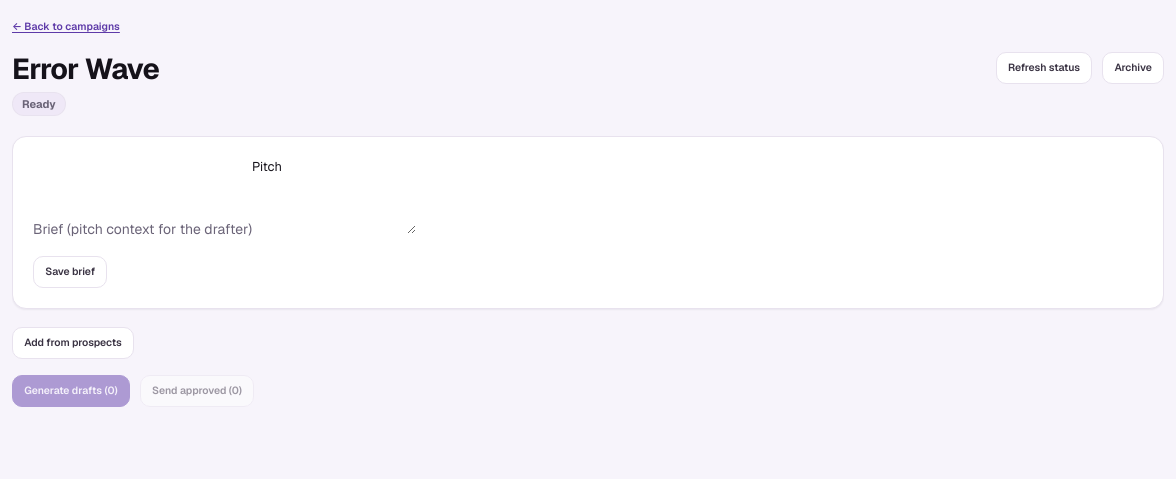
CampaignsPanel › shows backend action errors inline instead of replacing the campaign
Expected: the heading "Error Wave" is shown, [12,52,159,85]
Click the button "Save brief": click(70, 272) [33,256,107,288]
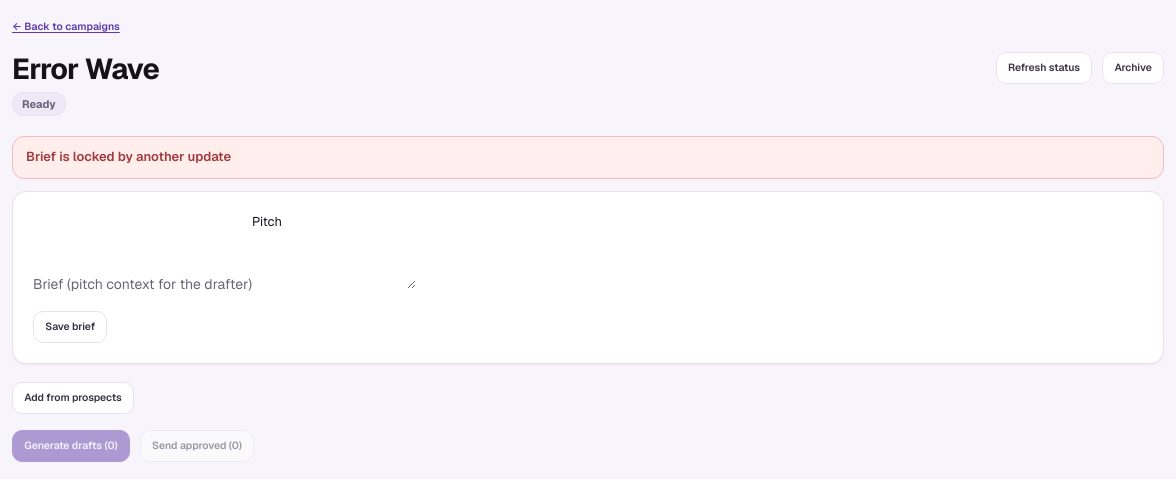
Expected: the heading "Error Wave" is shown, [12,52,159,85]
Now the message reads "Brief is locked by another update", box [26,148,231,165]
